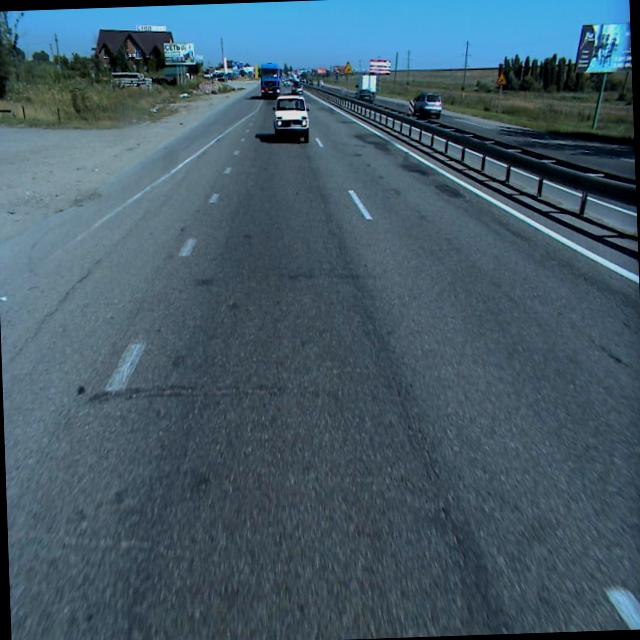road: (0, 80, 640, 640)
